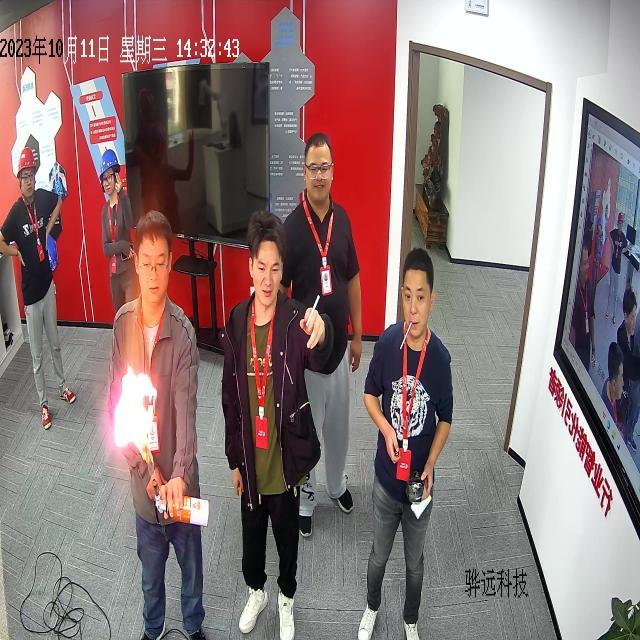Fire: (113, 363, 157, 486)
